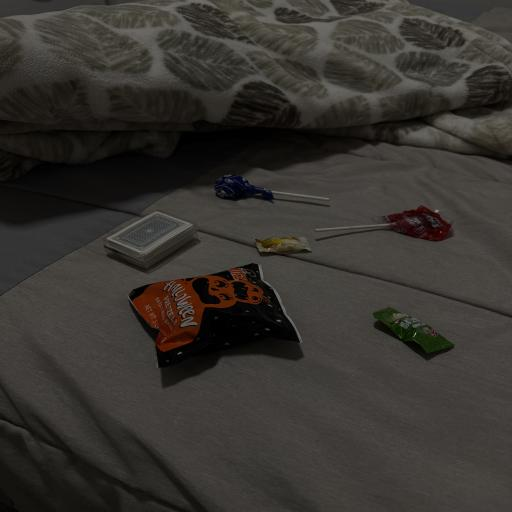chocolate: (129, 264, 301, 367), (374, 308, 454, 352), (385, 206, 451, 241), (214, 174, 274, 200), (255, 237, 311, 253)
